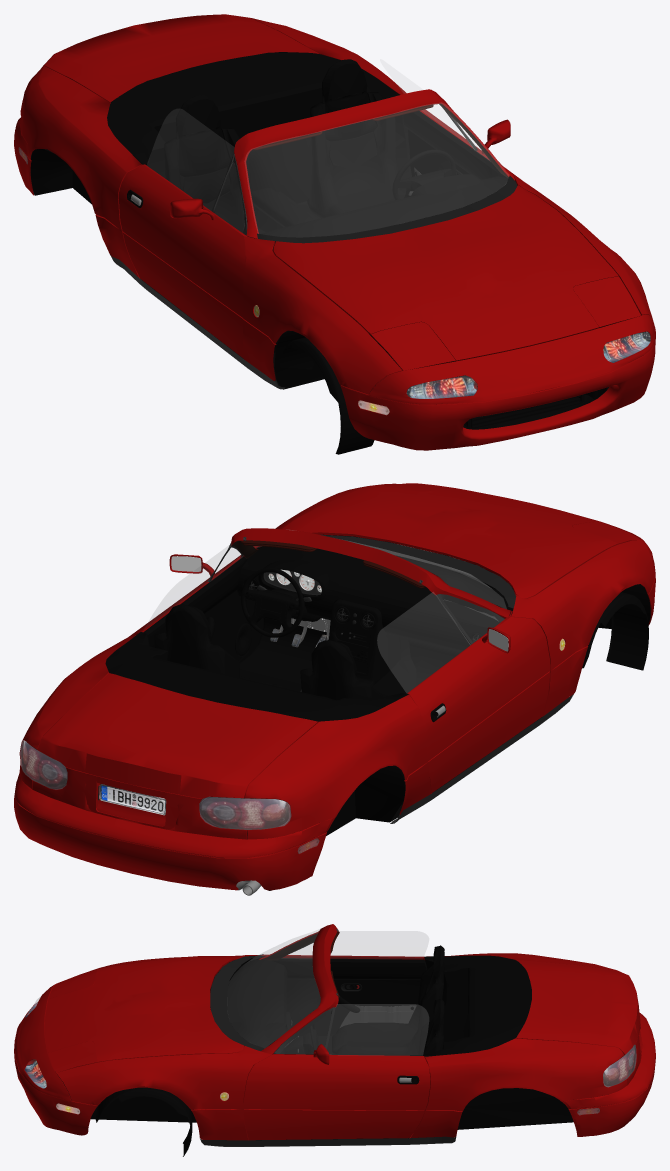
The picture shows the model from 3 angles, top to bottom: view 1: azimuth 30°, elevation 25°; view 2: azimuth 150°, elevation 25°; view 3: azimuth 270°, elevation 25°; orthographic projection. The views are drawn at different scales.
Parts seen in each view (by area): view 1: rigthdoor_Material #71_0, insidebed_Material #170_0, sidewin2_glass_0, Plane008_Material #170_0, indoor2_Material #169_0, Line002_Material #233_0, tire_Material #113_0, fcheeckin_Material #90_0, bwhlightamericanjapanese__0, Box008_Material #171_0, piece2_Material #83_0, steeringwheel_Material #155_0 (+3 smaller); view 2: rigthdoor_Material #71_0, insidebed_Material #170_0, sidewin2_glass_0, Plane008_Material #170_0, rearlightIN_Material #42_0, indoor2_Material #169_0, midsectioninside_Material #153_0, Line002_Material #233_0, mirrorbox_Material #70_0, tire_Material #113_0, Box008_Material #171_0, steeringwheel_Material #155_0 (+7 smaller); view 3: rigthdoor_Material #71_0, sidewin2_glass_0, insidebed_Material #170_0, indoor2_Material #169_0, Line002_Material #233_0, Plane008_Material #170_0, sideskirt_Material #118_0, bwhlightamericanjapanese__0, tire_Material #113_0, pouch2_Material #84_0, rearlightIN_Material #42_0, sidright_Material #77_0 (+4 smaller).
Boxes of the visible parts, bbox=[...] form: rigthdoor_Material #71_0: bbox=[14, 14, 655, 450]; insidebed_Material #170_0: bbox=[107, 52, 480, 304]; sidewin2_glass_0: bbox=[147, 60, 649, 398]; Plane008_Material #170_0: bbox=[252, 176, 515, 338]; indoor2_Material #169_0: bbox=[403, 111, 506, 179]; Line002_Material #233_0: bbox=[30, 149, 608, 428]; tire_Material #113_0: bbox=[280, 337, 374, 454]; fcheeckin_Material #90_0: bbox=[406, 331, 650, 398]; bwhlightamericanjapanese__0: bbox=[257, 175, 517, 243]; Box008_Material #171_0: bbox=[251, 188, 314, 226]; piece2_Material #83_0: bbox=[370, 321, 620, 428]; steeringwheel_Material #155_0: bbox=[392, 149, 456, 200]; rigthdoor_Material #71_0: bbox=[14, 483, 655, 890]; insidebed_Material #170_0: bbox=[105, 546, 512, 805]; sidewin2_glass_0: bbox=[20, 530, 505, 829]; Plane008_Material #170_0: bbox=[238, 546, 513, 696]; rearlightIN_Material #42_0: bbox=[20, 740, 291, 829]; indoor2_Material #169_0: bbox=[143, 556, 262, 663]; midsectioninside_Material #153_0: bbox=[237, 568, 487, 649]; Line002_Material #233_0: bbox=[32, 580, 650, 890]; mirrorbox_Material #70_0: bbox=[32, 554, 510, 837]; tire_Material #113_0: bbox=[582, 592, 648, 670]; Box008_Material #171_0: bbox=[329, 599, 399, 686]; steeringwheel_Material #155_0: bbox=[240, 568, 304, 637]; rigthdoor_Material #71_0: bbox=[14, 924, 655, 1140]; sidewin2_glass_0: bbox=[25, 929, 635, 1087]; insidebed_Material #170_0: bbox=[229, 945, 531, 1138]; indoor2_Material #169_0: bbox=[269, 958, 427, 1055]; Line002_Material #233_0: bbox=[56, 1051, 573, 1140]; Plane008_Material #170_0: bbox=[227, 959, 333, 1054]; sideskirt_Material #118_0: bbox=[200, 1136, 456, 1146]; bwhlightamericanjapanese__0: bbox=[210, 954, 291, 1051]; tire_Material #113_0: bbox=[95, 1087, 192, 1156]; pouch2_Material #84_0: bbox=[340, 1005, 416, 1027]; rearlightIN_Material #42_0: bbox=[603, 1044, 636, 1087]; sidright_Material #77_0: bbox=[274, 942, 335, 1053].
Size of the model in its own units: 1.81 by 1.02 by 3.97.
59 materials, 9 textured.
